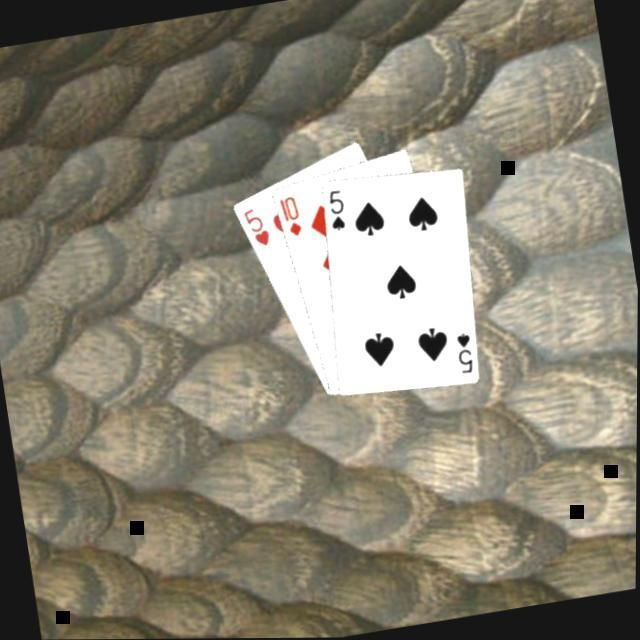10D: (276, 190, 308, 239)
5H: (240, 201, 275, 250)
5S: (324, 183, 352, 233), (452, 326, 480, 376)
